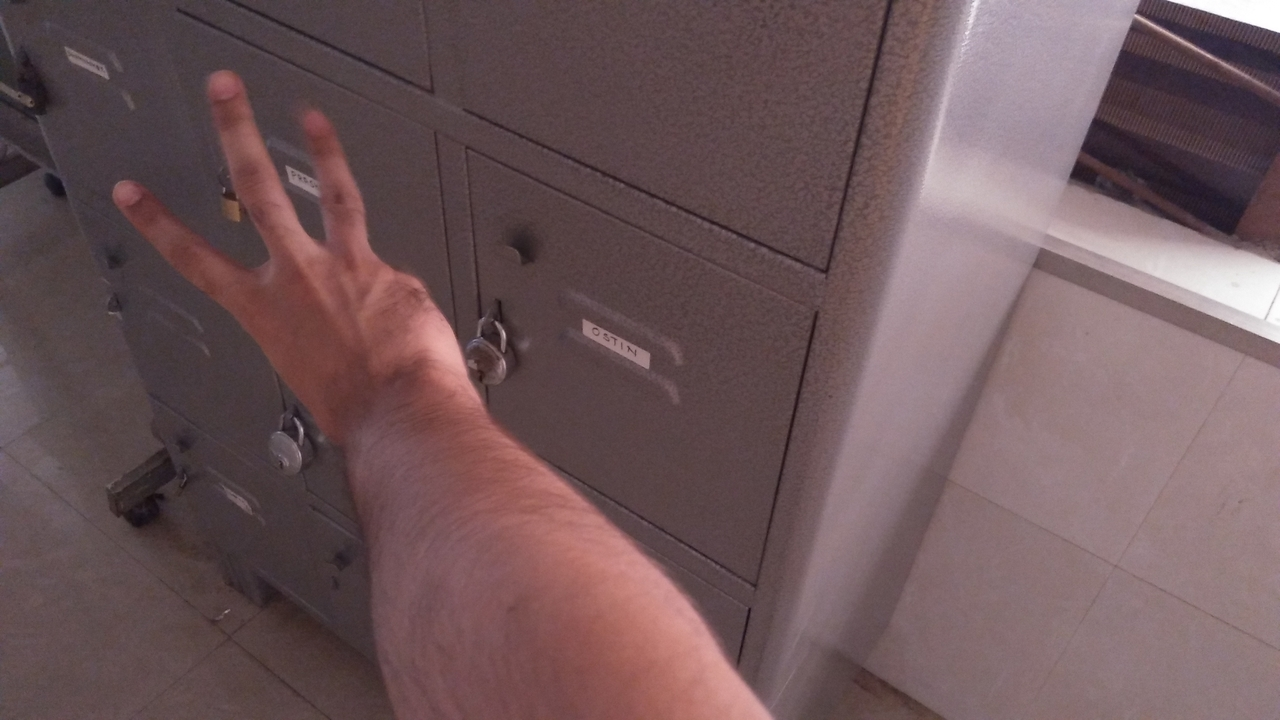fingertip: (98, 170, 158, 216), (192, 62, 250, 106), (286, 100, 340, 140)
